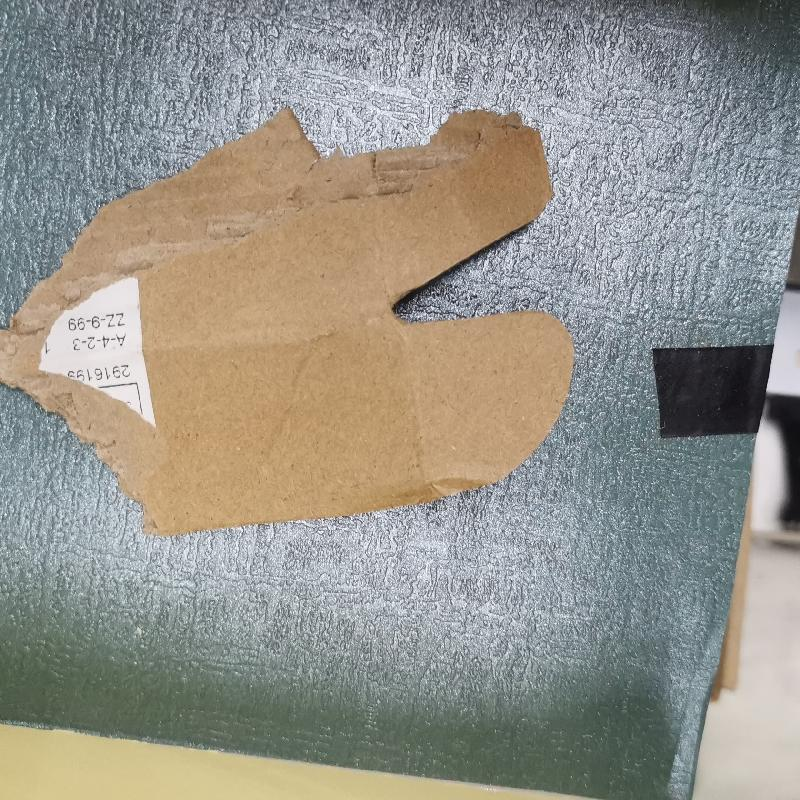boxes: (6, 103, 595, 538)
